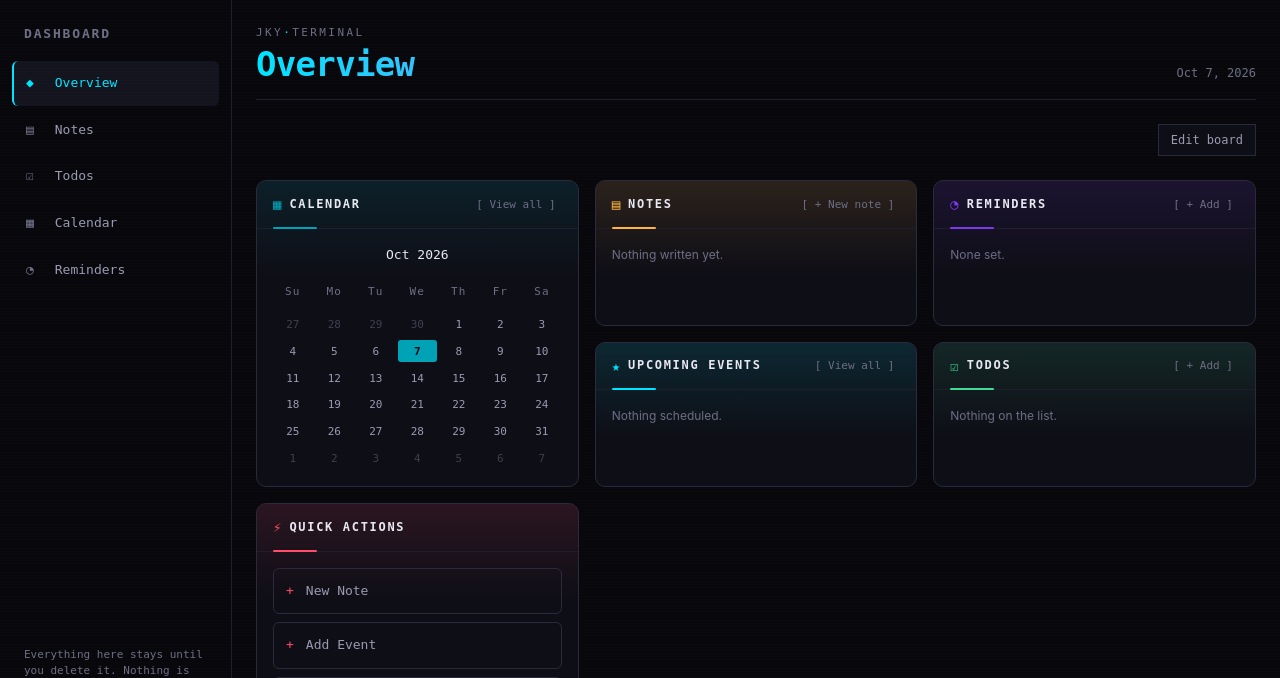
the overview grid › the layout editor › offers hide and resize on every card once editing
Click the button "Edit board" at (1207, 140), box [1158,124,1256,156]
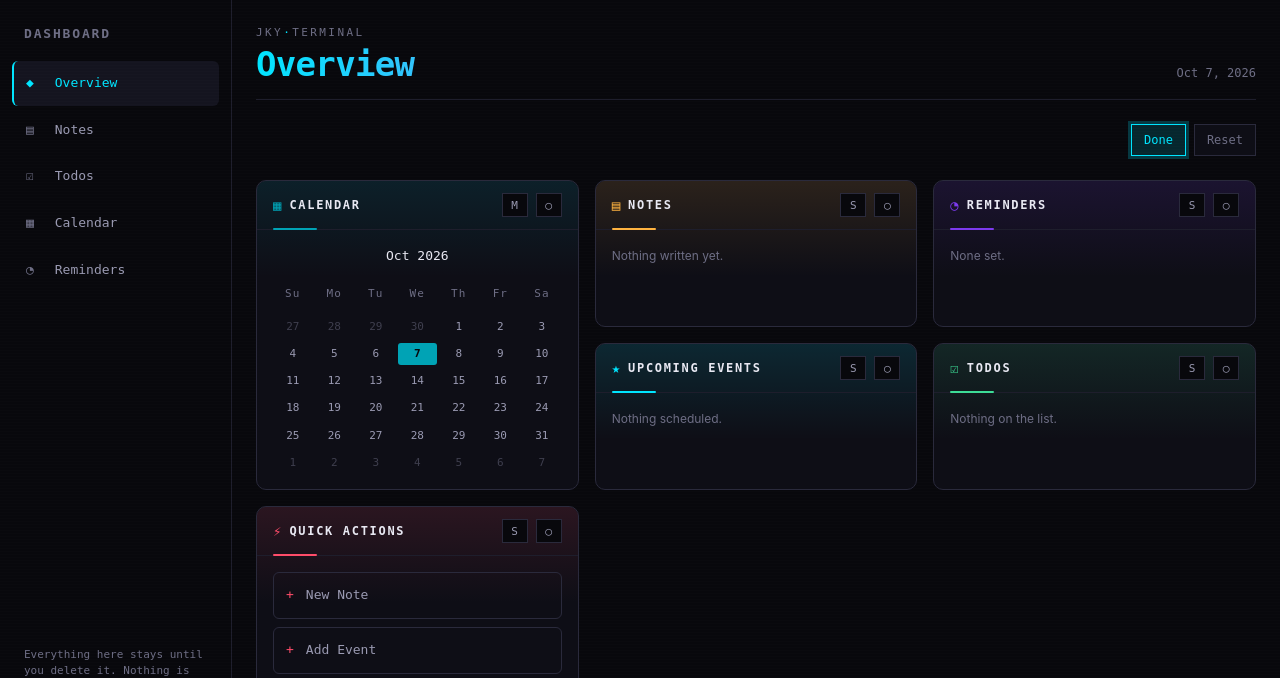
Check: the button named "hide card" is shown, box [874,193,900,217]
Check: the button named "size" is shown, box [840,193,866,217]
